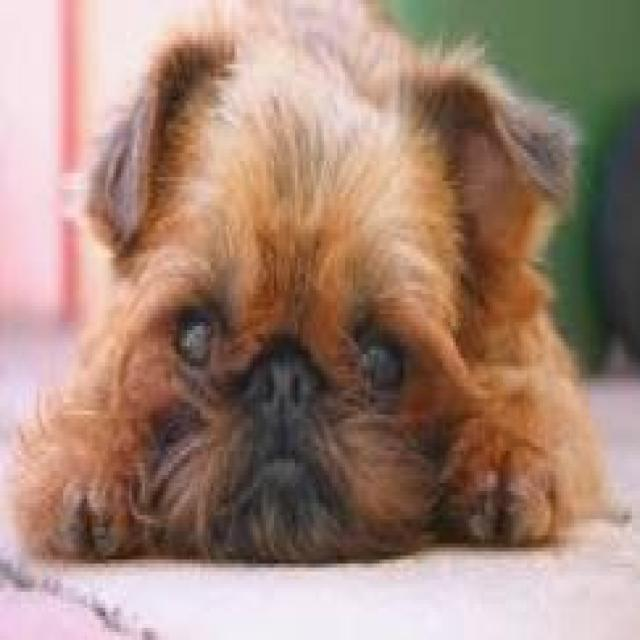Perro: (3, 0, 611, 572)
